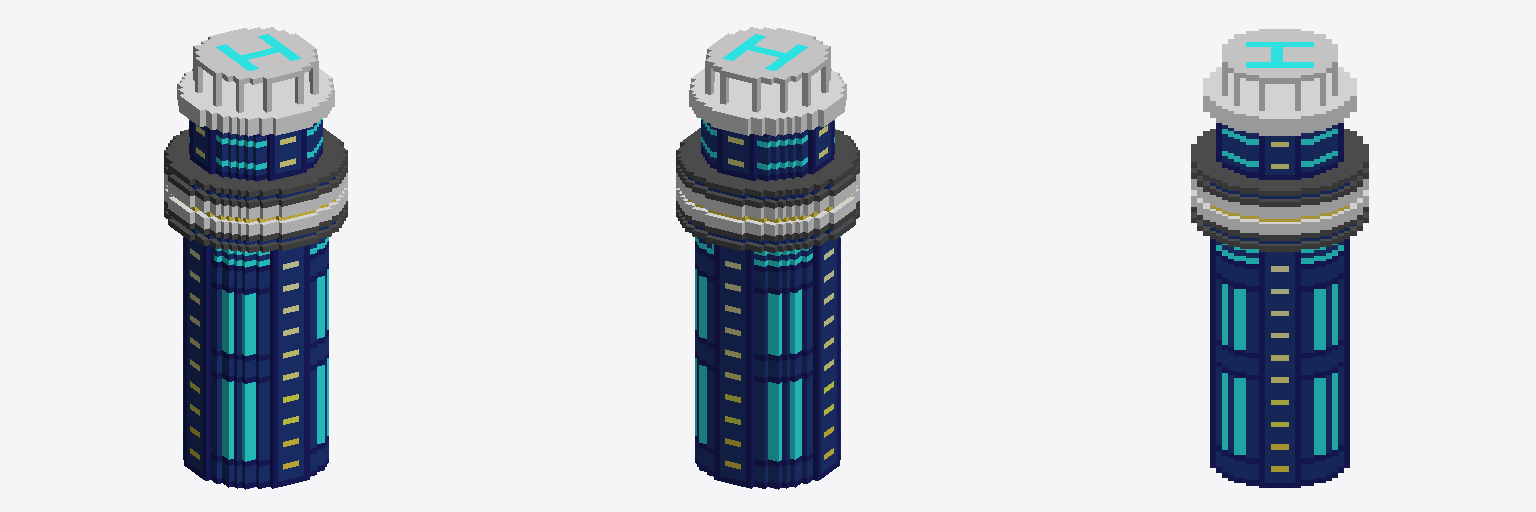
3 renders of one model, left to right at view 1: azimuth 30°, elevation 25°; view 2: azimuth 150°, elevation 25°; view 3: azimuth 270°, elevation 25°, orthographic.
Visible parts, largest first — view 1: object 1; view 2: object 1; view 3: object 1.
Part boxes in pixels (left/top/right/bottom): object 1: left=164, top=27, right=347, bottom=489; object 1: left=676, top=27, right=859, bottom=489; object 1: left=1191, top=29, right=1368, bottom=487.
Size of the model in its own units: 2.9 by 7.3 by 2.9.
Materials: 1 (1 with a texture image).